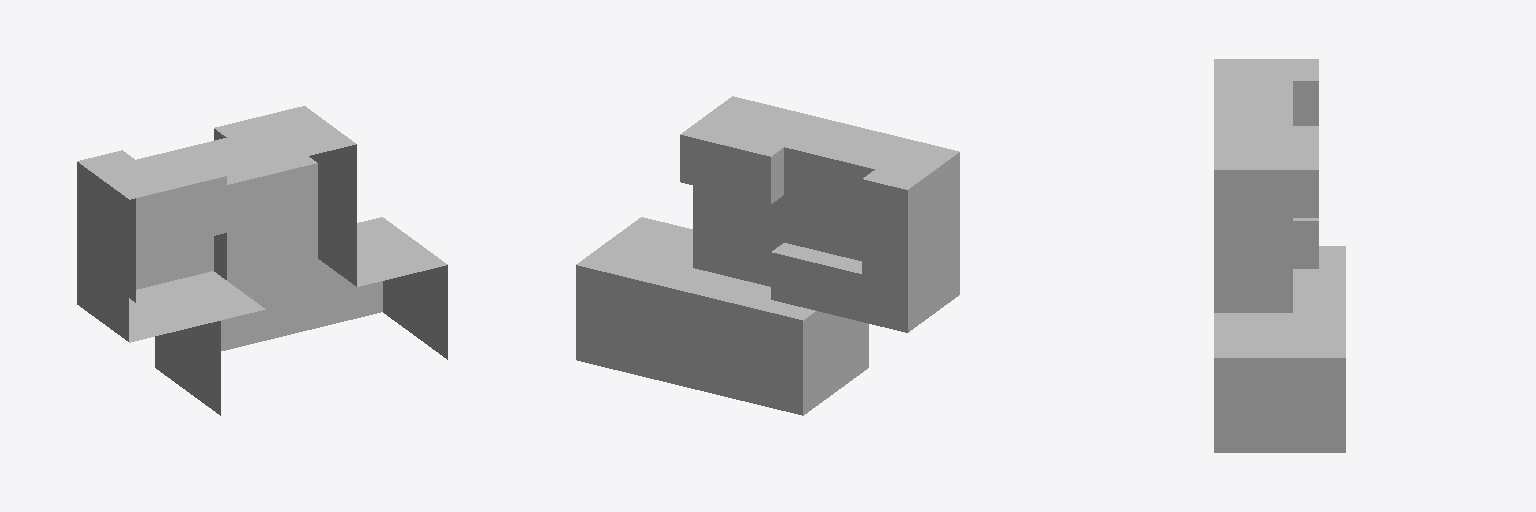
The model's file is mylandscaping_blocka_m_b.obj.
3 renders of one model, left to right at view 1: azimuth 30°, elevation 25°; view 2: azimuth 150°, elevation 25°; view 3: azimuth 270°, elevation 25°, orthographic.
Parts seen in each view (by area): view 1: Adaridge_M_B_Cube.004; view 2: Adaridge_M_B_Cube.004; view 3: Adaridge_M_B_Cube.004.
Part boxes in pixels (x1,y1,x2,y2): Adaridge_M_B_Cube.004: (77, 106, 447, 415); Adaridge_M_B_Cube.004: (576, 96, 959, 415); Adaridge_M_B_Cube.004: (1214, 59, 1345, 452).
Size of the model in its own units: 1.4 by 1 by 0.5.